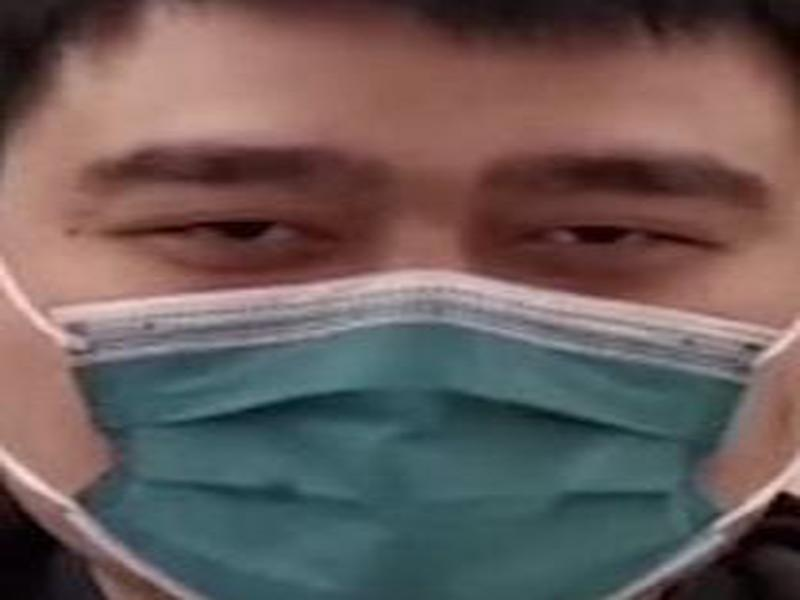with_mask: (1, 24, 795, 600)
